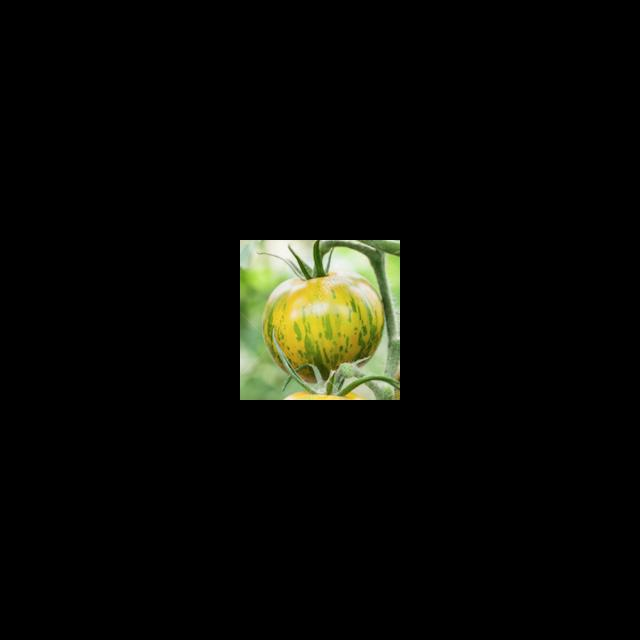tomato: (254, 256, 382, 378)
